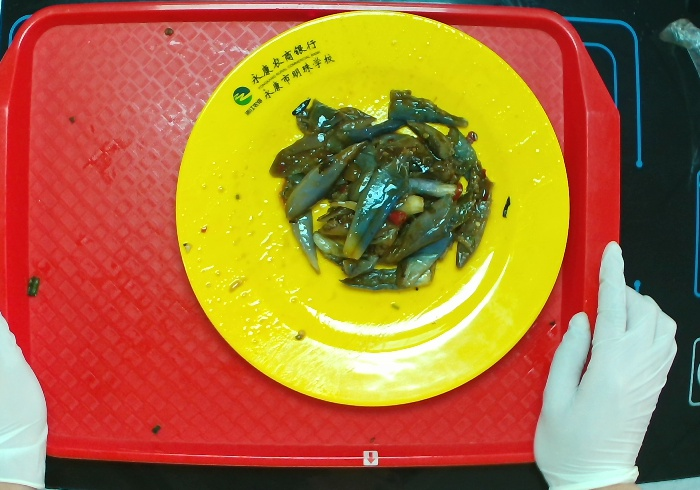YKMZ-Huang_Se_Mian_Pan: (161, 1, 580, 414)
